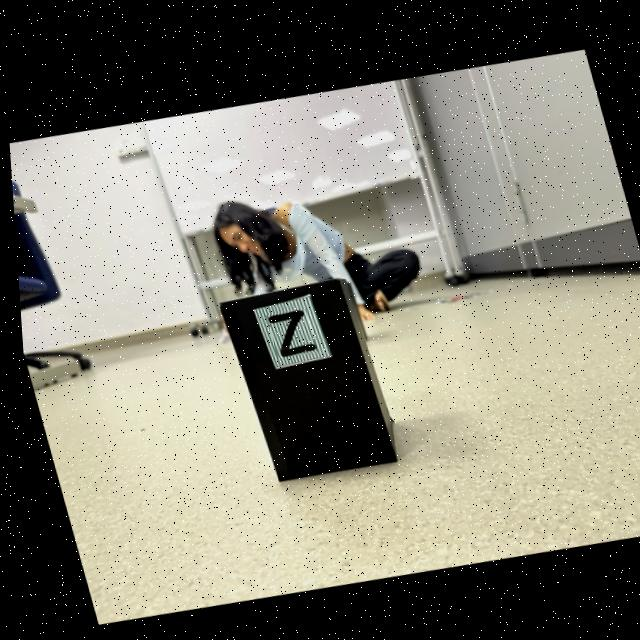Z: (264, 307, 311, 353)
